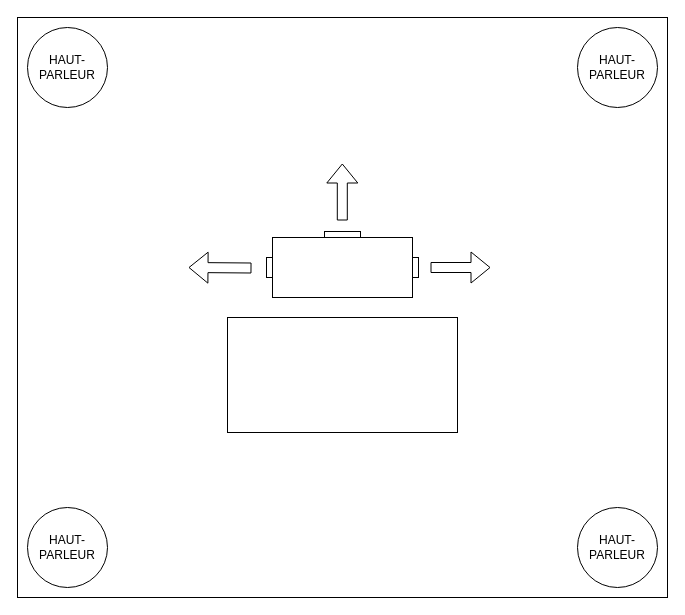
This 685x615 diagram has some shape labels left out. The shapes that lost their labels are listed below. From the top down, each one's centre as x and y in pixels, then its label:
At pixel 342 267: "PROJECTEURS".
At pixel 342 374: "TABLE".
